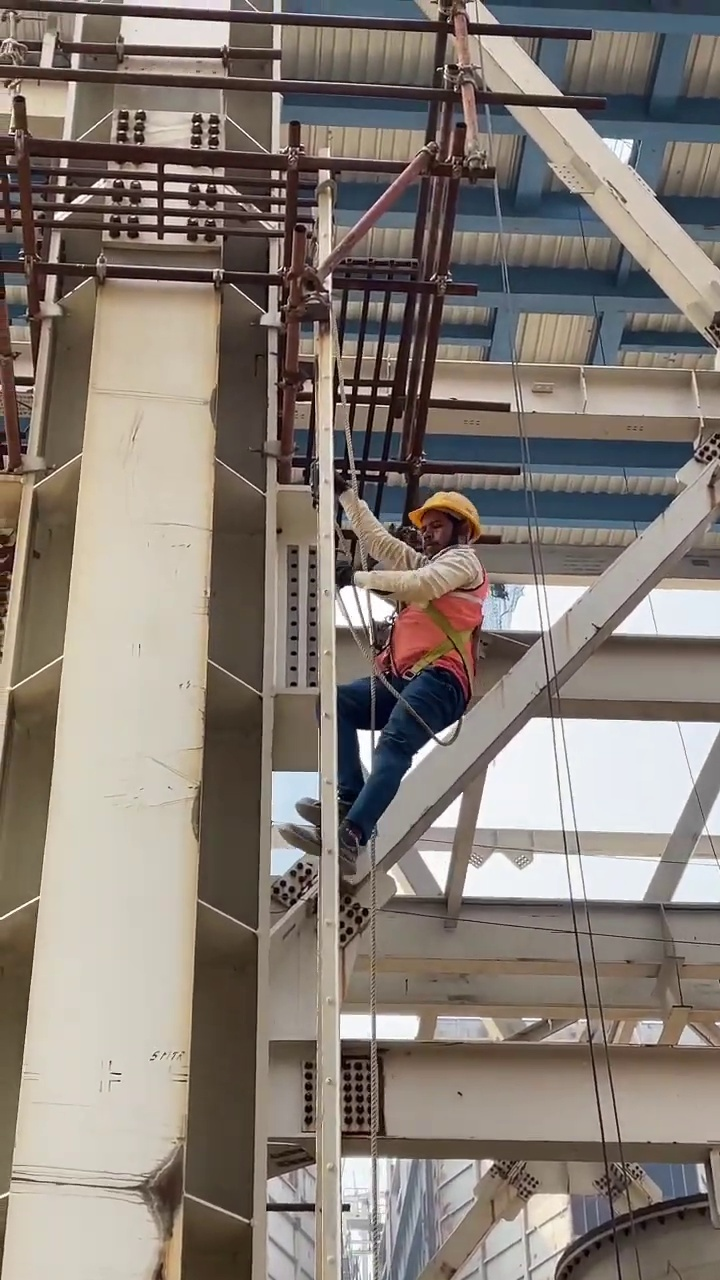Helmet: (410, 488, 481, 529)
Person: (274, 489, 486, 876)
Safety_Harness: (358, 543, 485, 736)
Safety_shoes: (282, 819, 363, 876), (295, 793, 347, 819)
